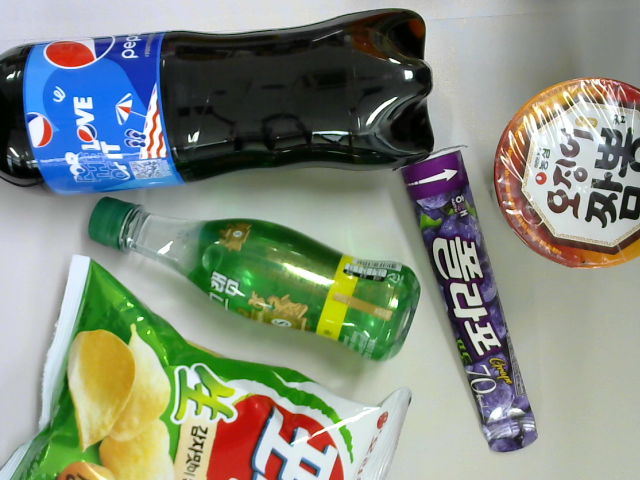Ojjam: (494, 76, 640, 270)
Pepsi_Cola_1.5L: (1, 9, 435, 195)
Pocachip_Onion: (1, 253, 412, 480)
Polapo_Grape: (388, 142, 542, 453)
Seagram_Lemon_Carbonated_Water: (87, 194, 422, 364)
